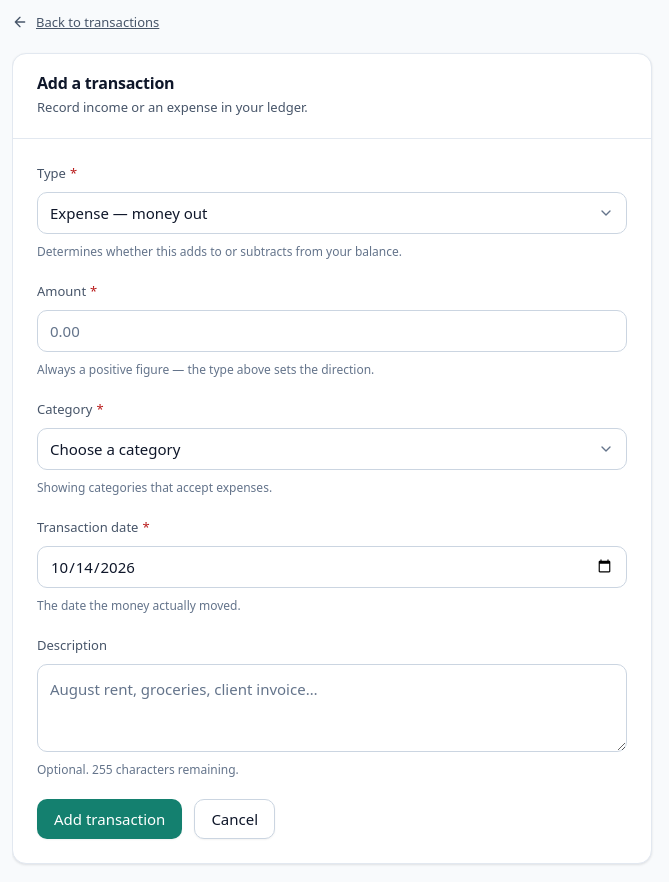
Test: TransactionFormPage › rejects an amount below the smallest storable value
In the number field labelled "Amount *": (332,331) [37,310,627,352], type "0.001"
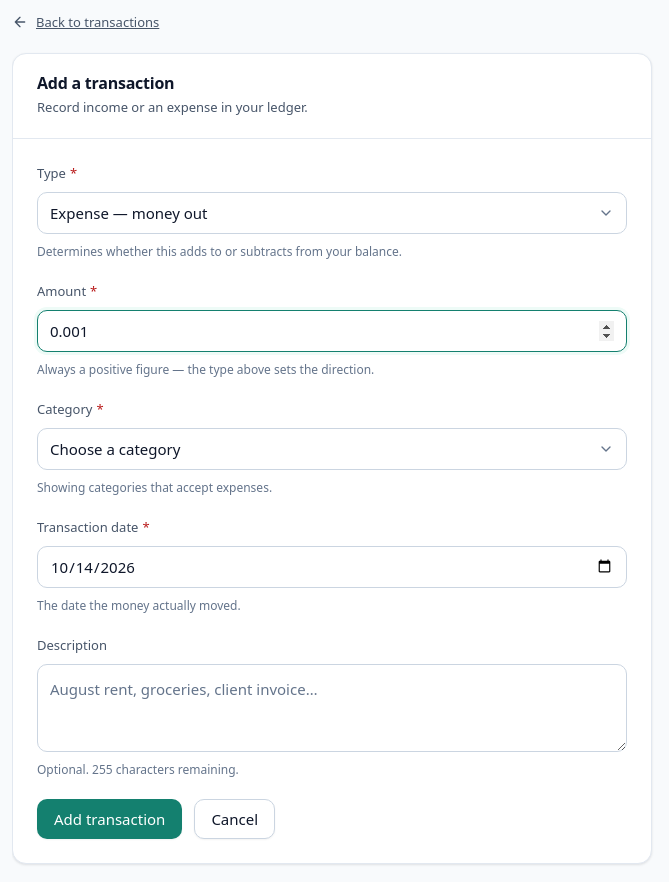
Select "Rent" in the dropdown labelled "Category *": (332,448) [37,428,627,470]
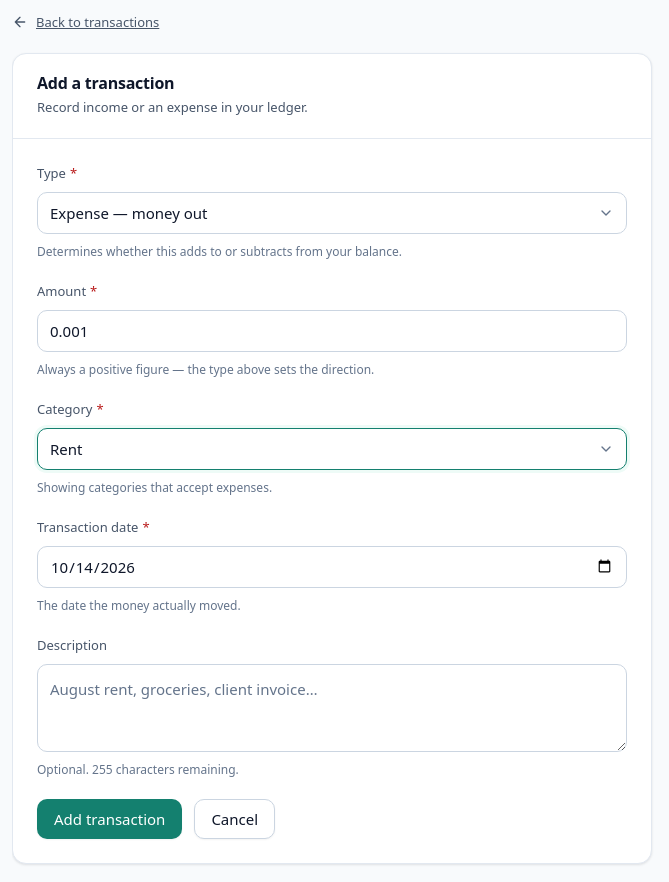
Click the button "Add transaction": (110,819) [37,799,182,839]
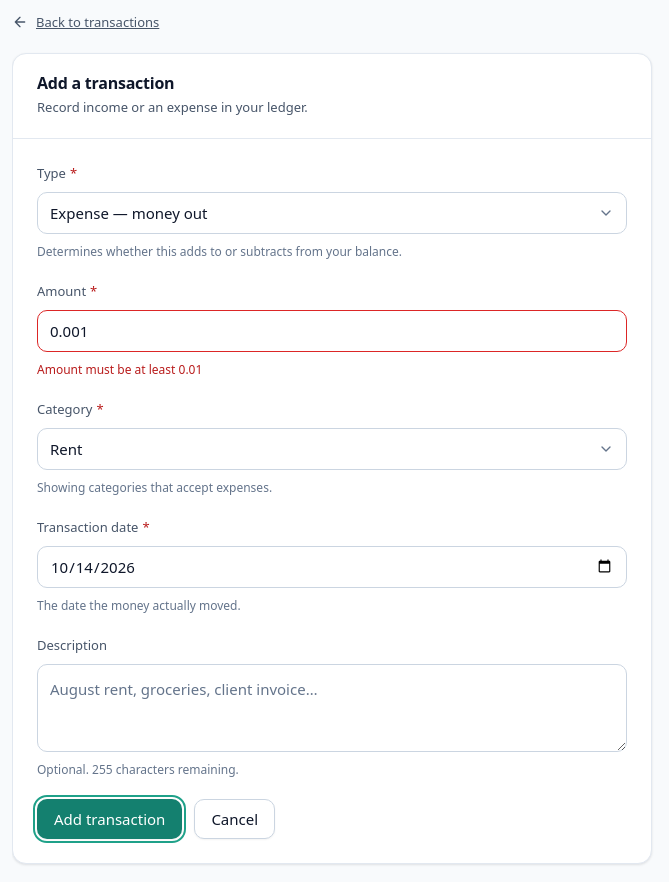
expect the text "Amount must be at least 0.01" is shown: met, box [37,361,202,378]
